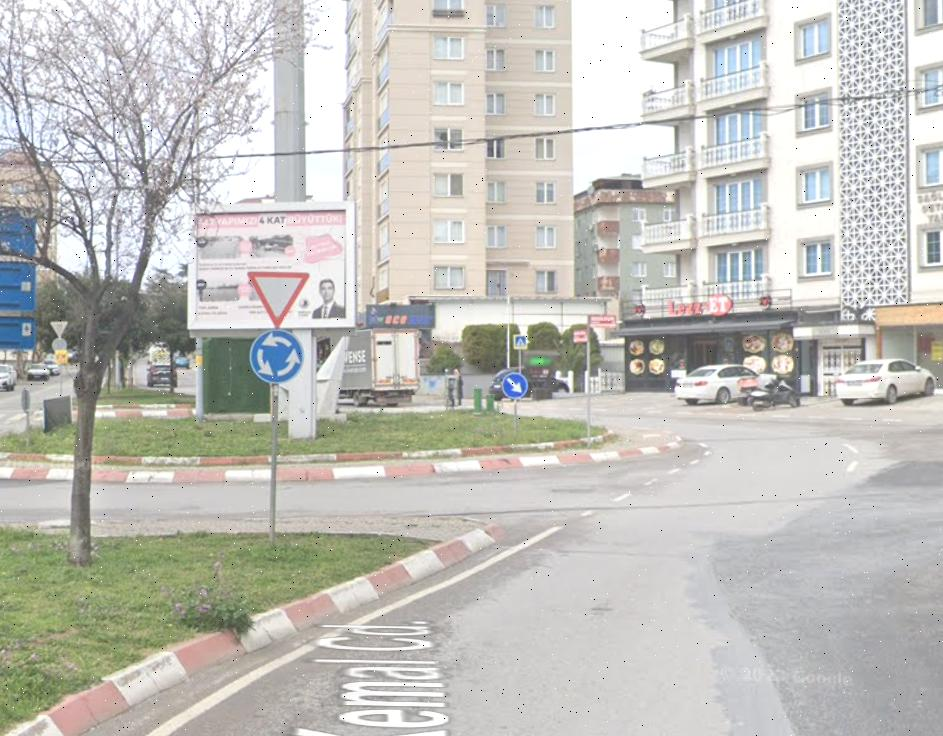crossroads: (248, 328, 305, 383)
